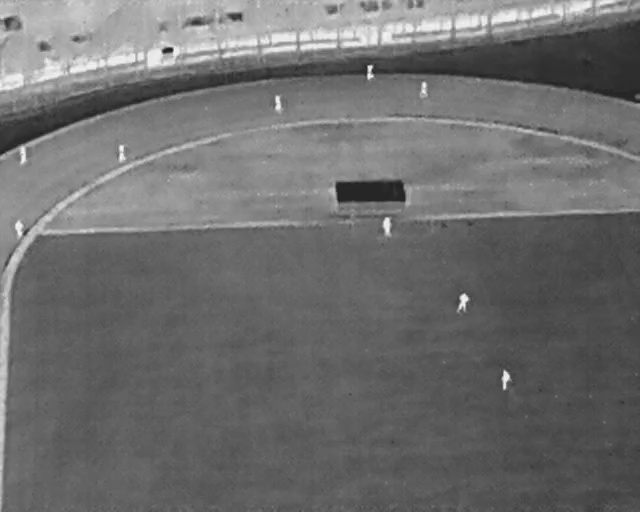Person: (456, 291, 469, 312), (501, 368, 512, 390), (382, 216, 393, 237), (117, 143, 127, 163), (19, 143, 28, 165), (15, 219, 24, 239), (420, 79, 428, 98), (367, 63, 375, 80), (274, 94, 282, 110)
